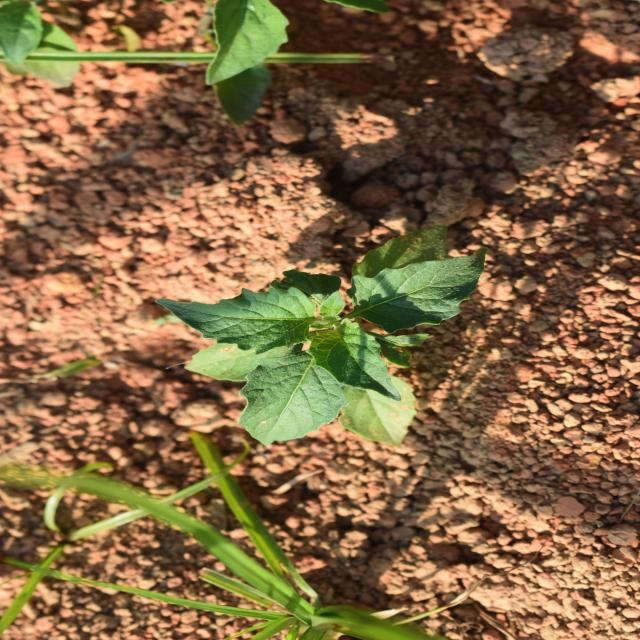Black_nightshade: (206, 185, 413, 487)
